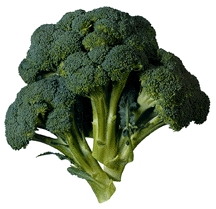broccoli: (2, 5, 211, 199)
